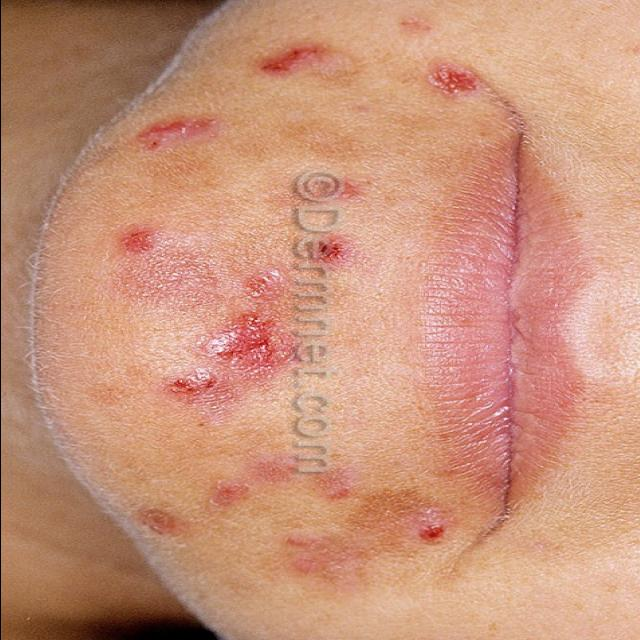Acne: (200, 312, 294, 384), (135, 116, 221, 154), (254, 44, 326, 80), (425, 62, 479, 100), (168, 368, 220, 402), (410, 508, 454, 547), (243, 268, 287, 302), (134, 507, 180, 537), (206, 482, 254, 510), (322, 468, 362, 501), (394, 12, 436, 40), (121, 228, 157, 258), (288, 556, 314, 576), (283, 532, 313, 548)
